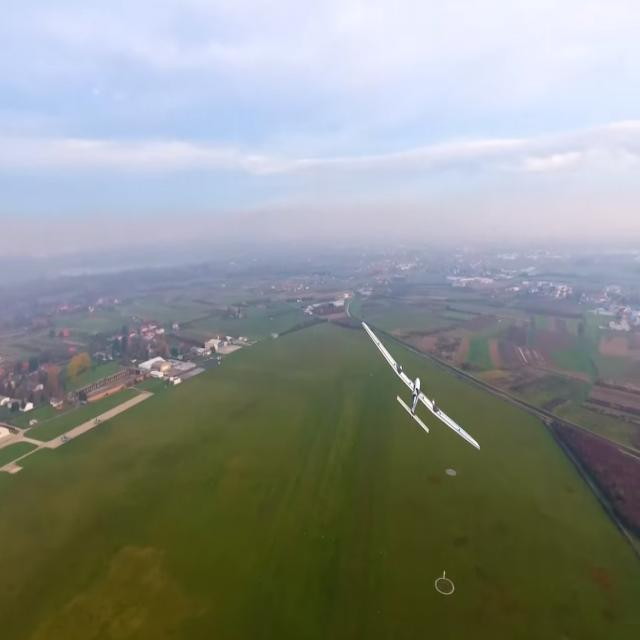iha: (393, 354, 451, 417)
